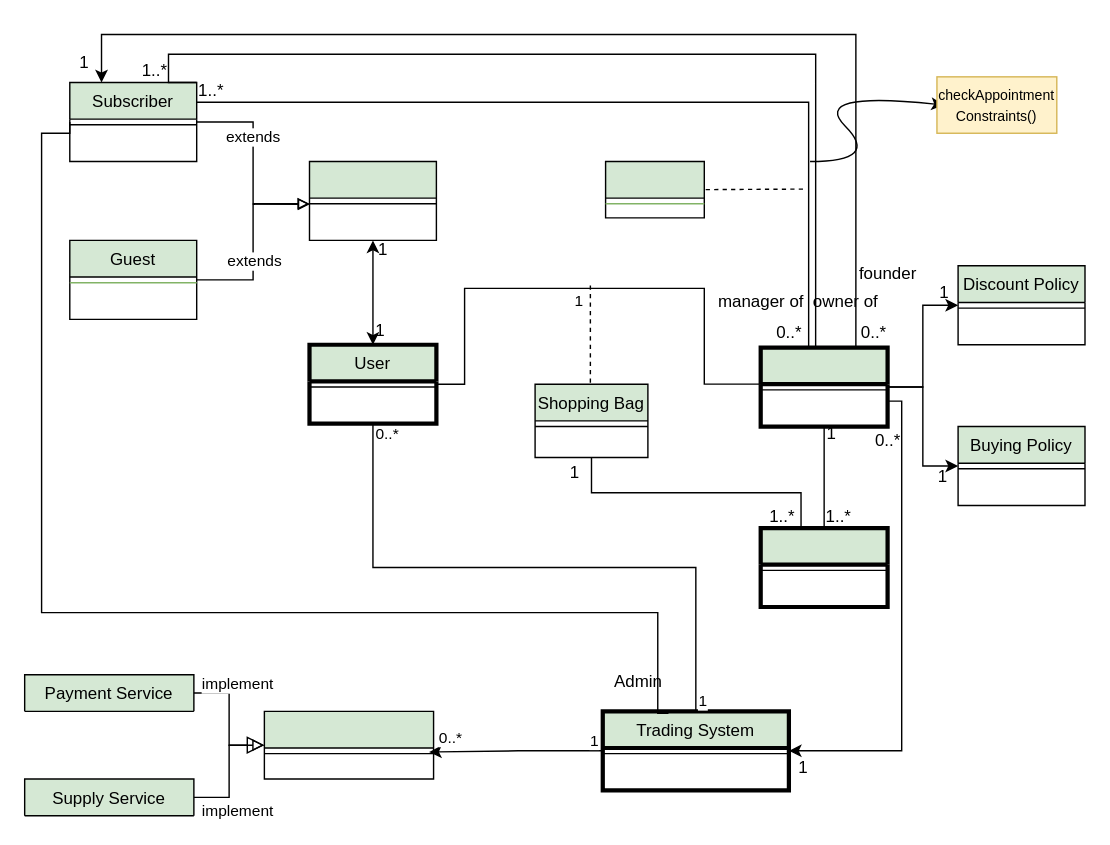
Image size: 1110x845. Some labels were removed from this diagram. The centre of each missing label's shape, as x and y in pixels:
"External Services" belongs at (x=348, y=744).
"Permission" belongs at (x=654, y=189).
"Product" belongs at (x=823, y=566).
"Role" belongs at (x=372, y=200).
"Store" belongs at (x=823, y=386).
